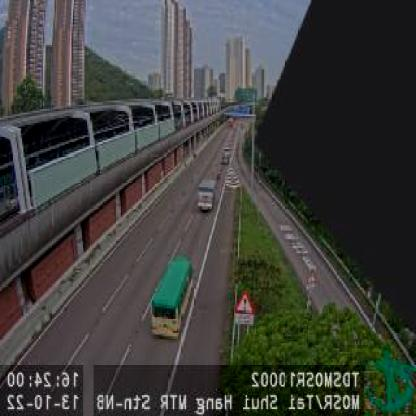Car: (220, 147, 232, 165)
Minibus: (150, 254, 195, 340)
Truck: (197, 176, 217, 212)
